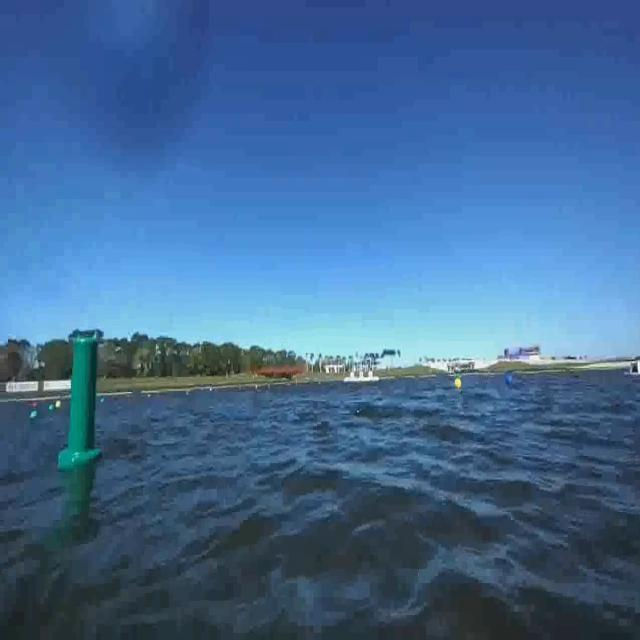green-buoy: (31, 412, 38, 422), (48, 406, 53, 414)
green-column-buoy: (61, 339, 103, 470)
yellow-buoy: (455, 376, 463, 391), (56, 399, 62, 408)
